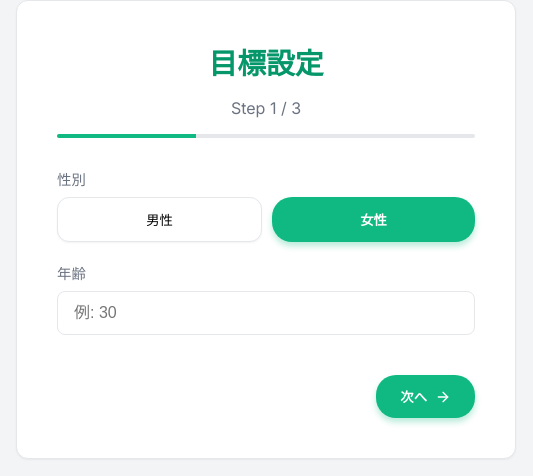
Test: DietPlanWizard › goes back from step 2 to step 1
Click the button "次へ": (426, 396) top-left (376, 375), bottom-right (475, 418)
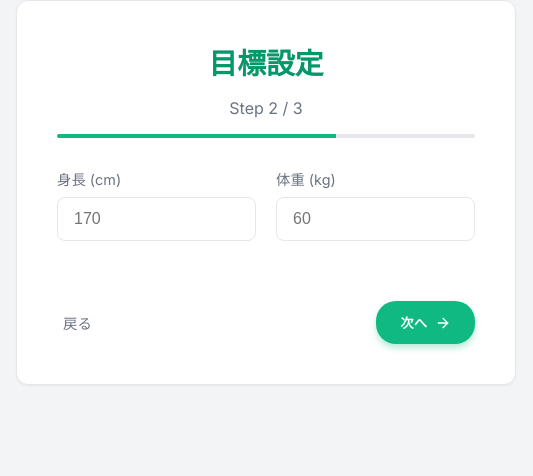
Click the button "戻る": (77, 322) top-left (57, 311), bottom-right (98, 334)
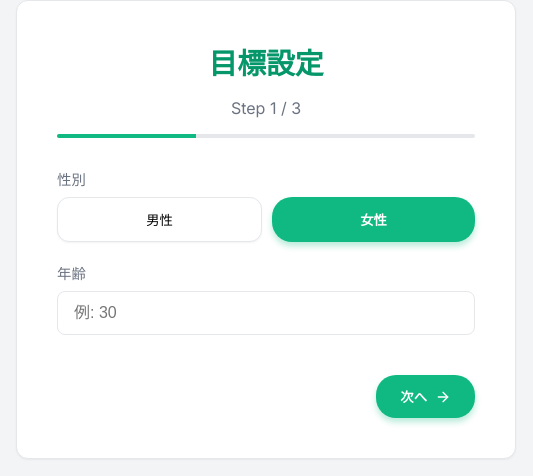
Expected: the text "Step 1 / 3" is shown, top-left (231, 98), bottom-right (301, 118)
